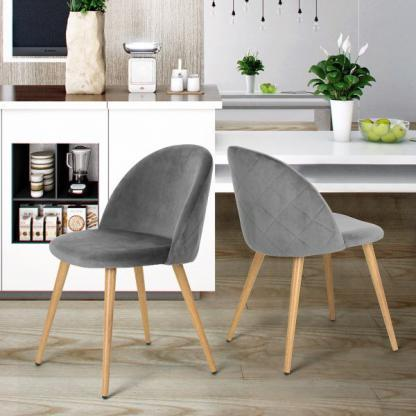chair: (223, 140, 393, 384), (42, 138, 214, 371)
